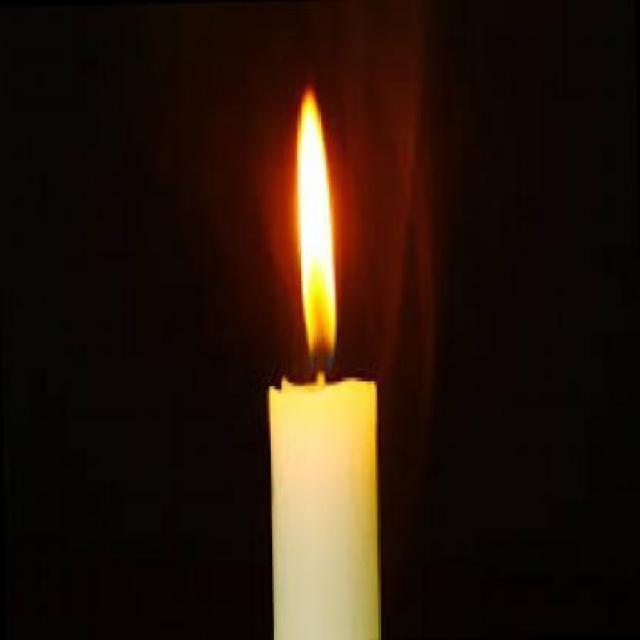fire: (297, 91, 336, 375)
